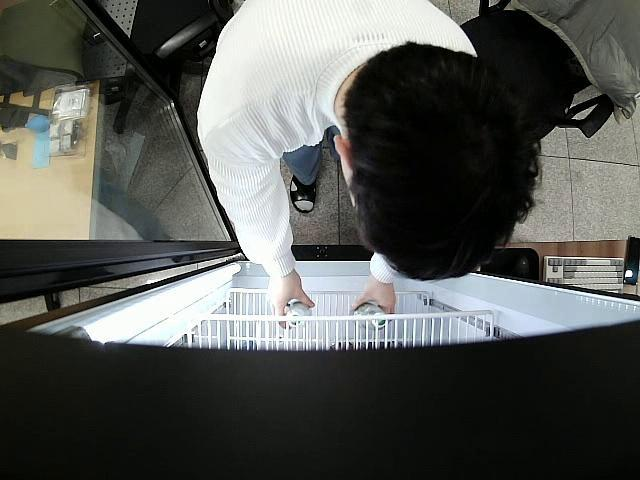18_trevi: (352, 302, 389, 331), (284, 301, 313, 332)
